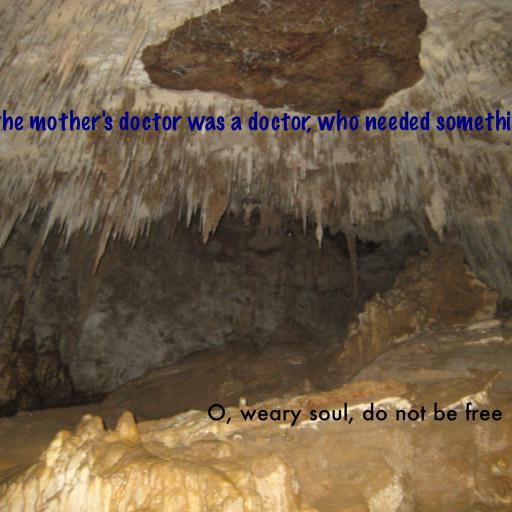Futura: (207, 402, 503, 426)
Marker Felt: (0, 109, 512, 135)
